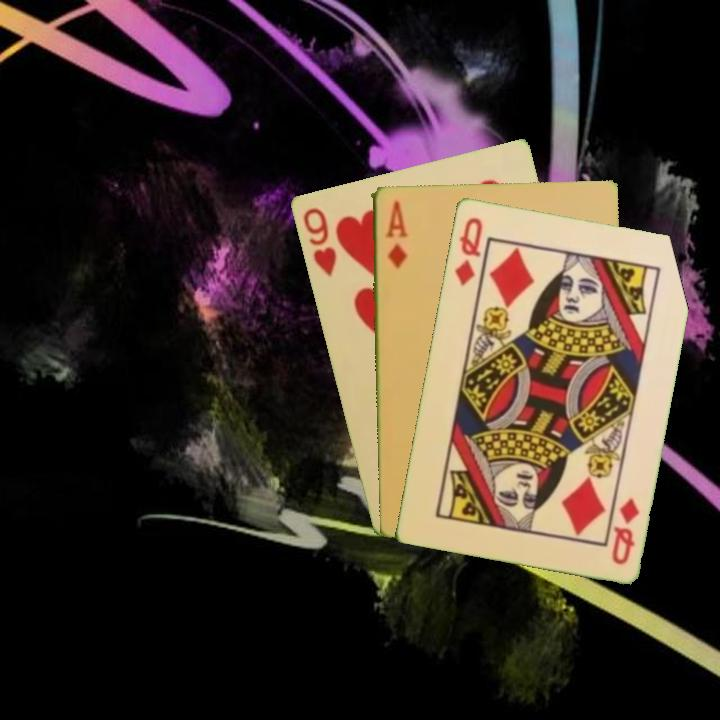9h: (299, 204, 339, 279)
Ad: (381, 196, 409, 270)
Qd: (451, 213, 485, 289), (608, 494, 642, 567)
